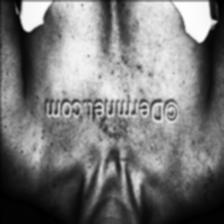Unclassified: (124, 39, 146, 78), (98, 125, 118, 144)
